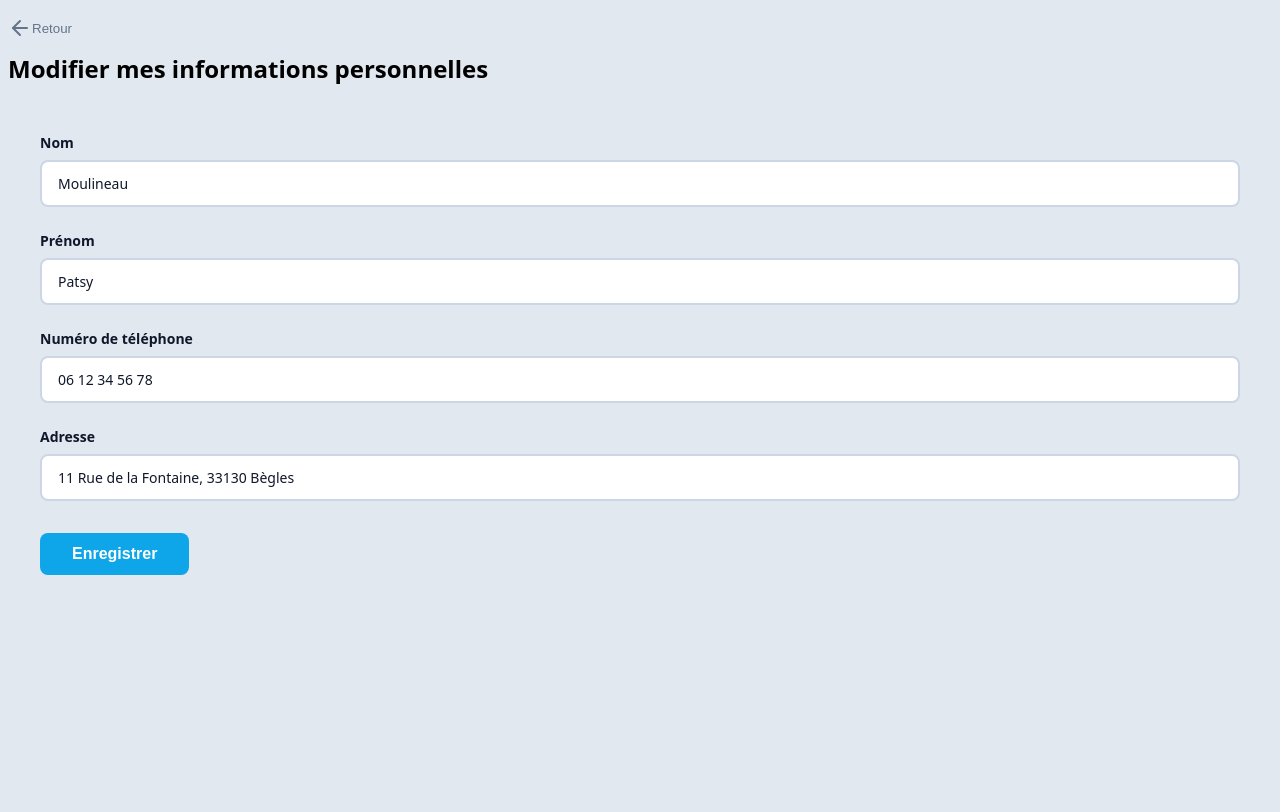
Test: FormContactDetailsComponent › shows validation error for empty lastName
Clear the field labelled "Nom" at (640, 184), box [40,160,1240,207]
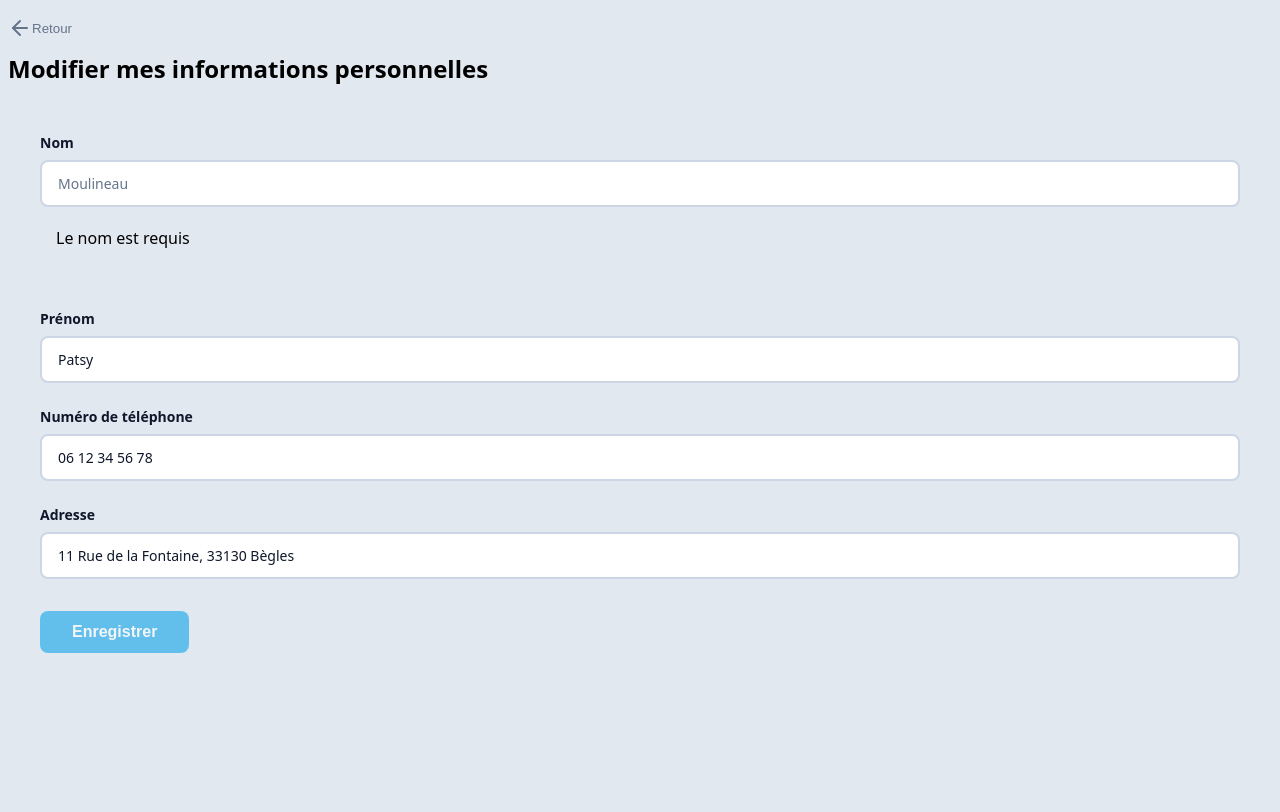
Now the text "Le nom est requis" is shown, box [56,227,190,249]
